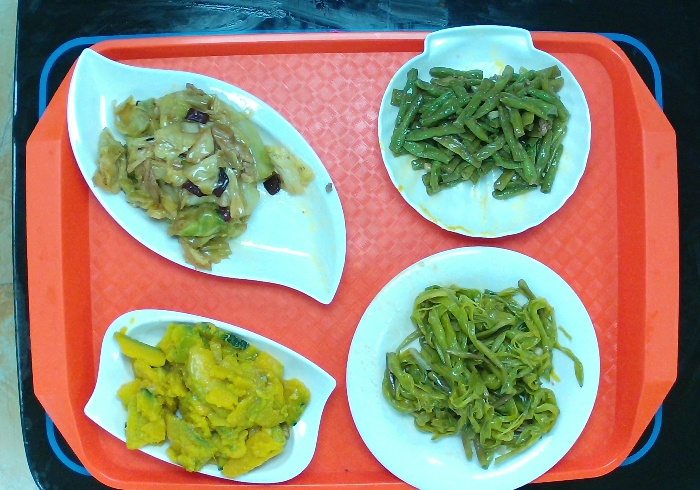RJxy-Bei_Ke_Wan: (374, 20, 595, 247)
RJxy-Jian_Jiao_Fang_Die: (79, 305, 339, 490)
RJxy-Jian_Jiao_Pan: (63, 46, 350, 309)
RJxy-Yuan_Pan: (338, 239, 605, 490)
